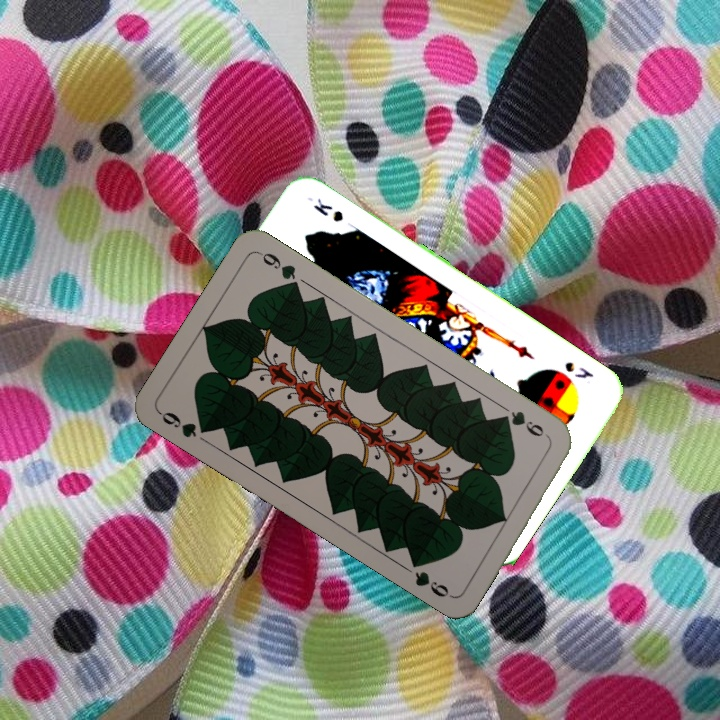G9: (155, 407, 214, 441), (496, 406, 547, 440)
SK: (560, 357, 597, 382)
